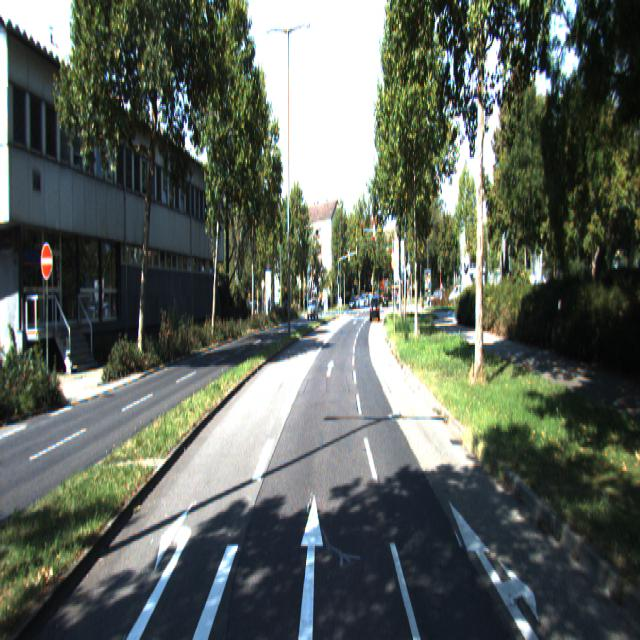Car: (307, 297, 319, 321), (370, 294, 380, 322)
